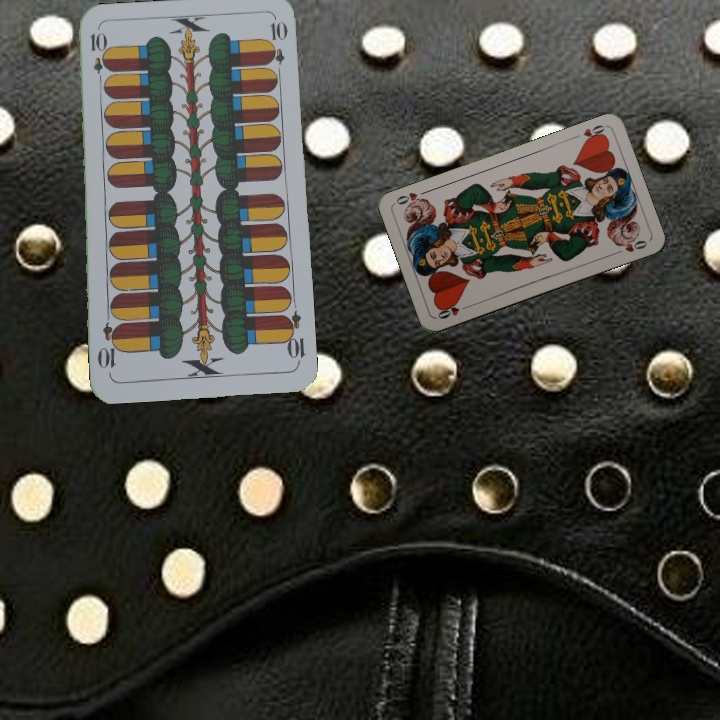E10: (279, 308, 307, 367), (86, 28, 107, 88)
HO: (569, 121, 608, 145), (434, 299, 472, 322)
